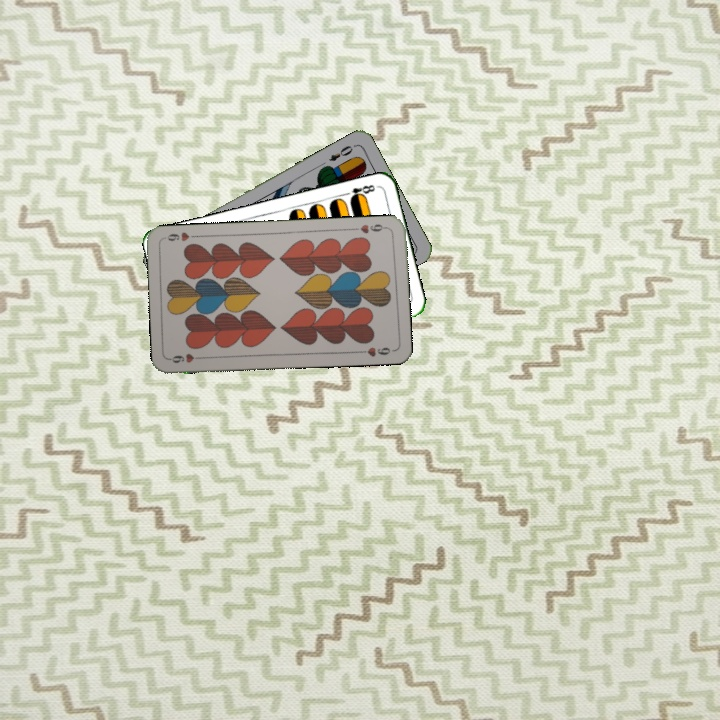E8: (340, 181, 377, 203)
EO: (325, 141, 356, 164)
H9: (166, 349, 207, 366), (349, 220, 390, 236)
